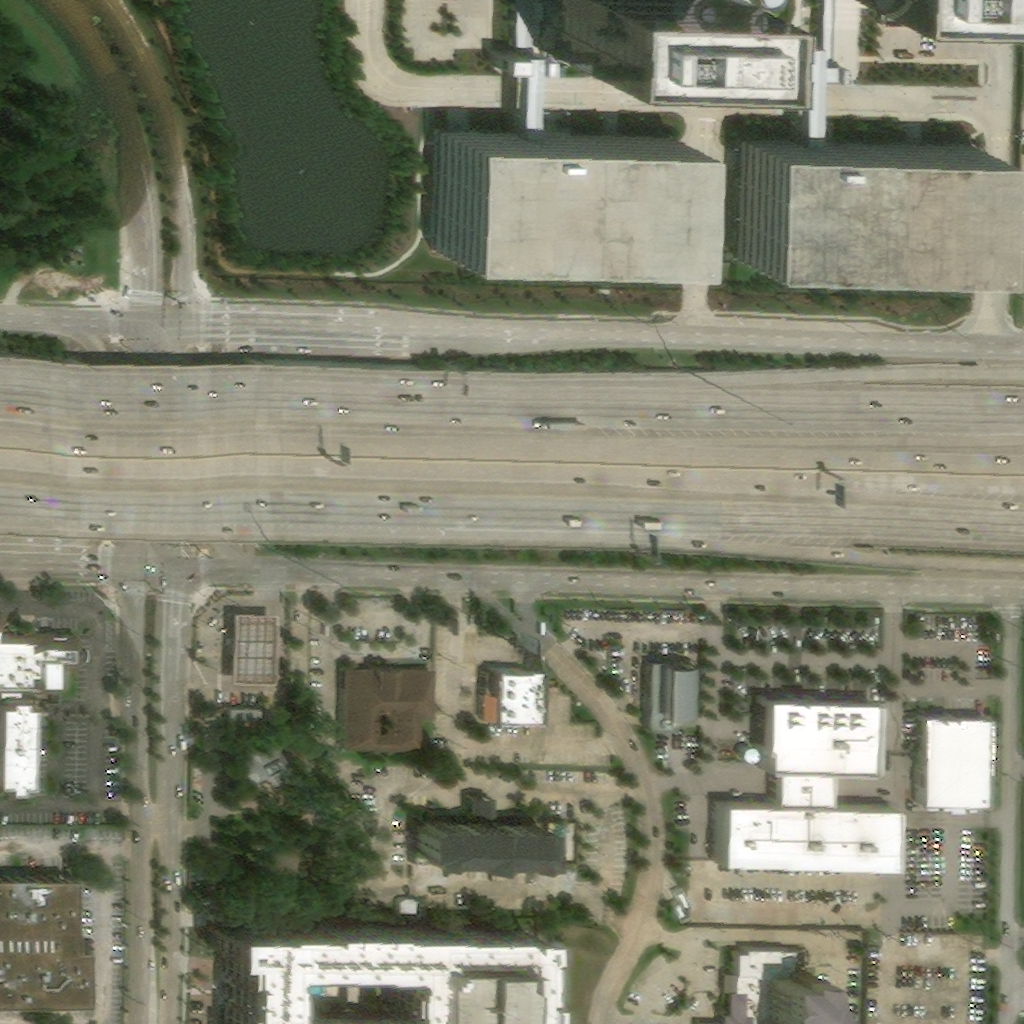no_damage: (435, 0, 989, 271), (209, 904, 533, 1023), (712, 687, 893, 874), (0, 868, 86, 1023), (411, 794, 544, 870), (341, 661, 438, 754), (698, 946, 809, 1023), (918, 710, 988, 818), (0, 633, 86, 696), (645, 653, 698, 732), (483, 662, 548, 726), (0, 696, 41, 797), (229, 609, 275, 684), (235, 743, 291, 792), (741, 746, 758, 766)
